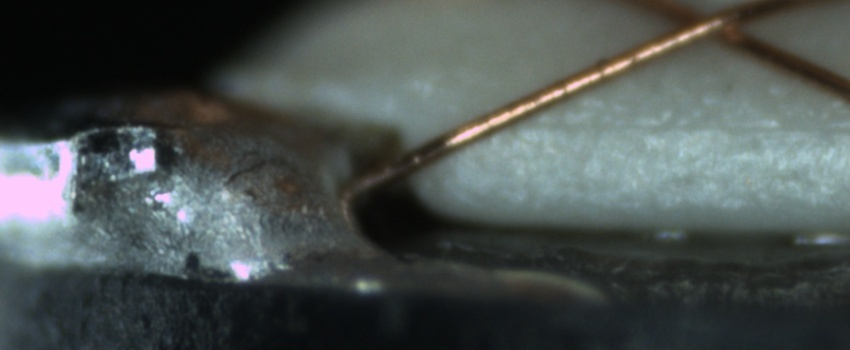CL: (649, 1, 767, 49)
DL: (499, 96, 850, 160)
